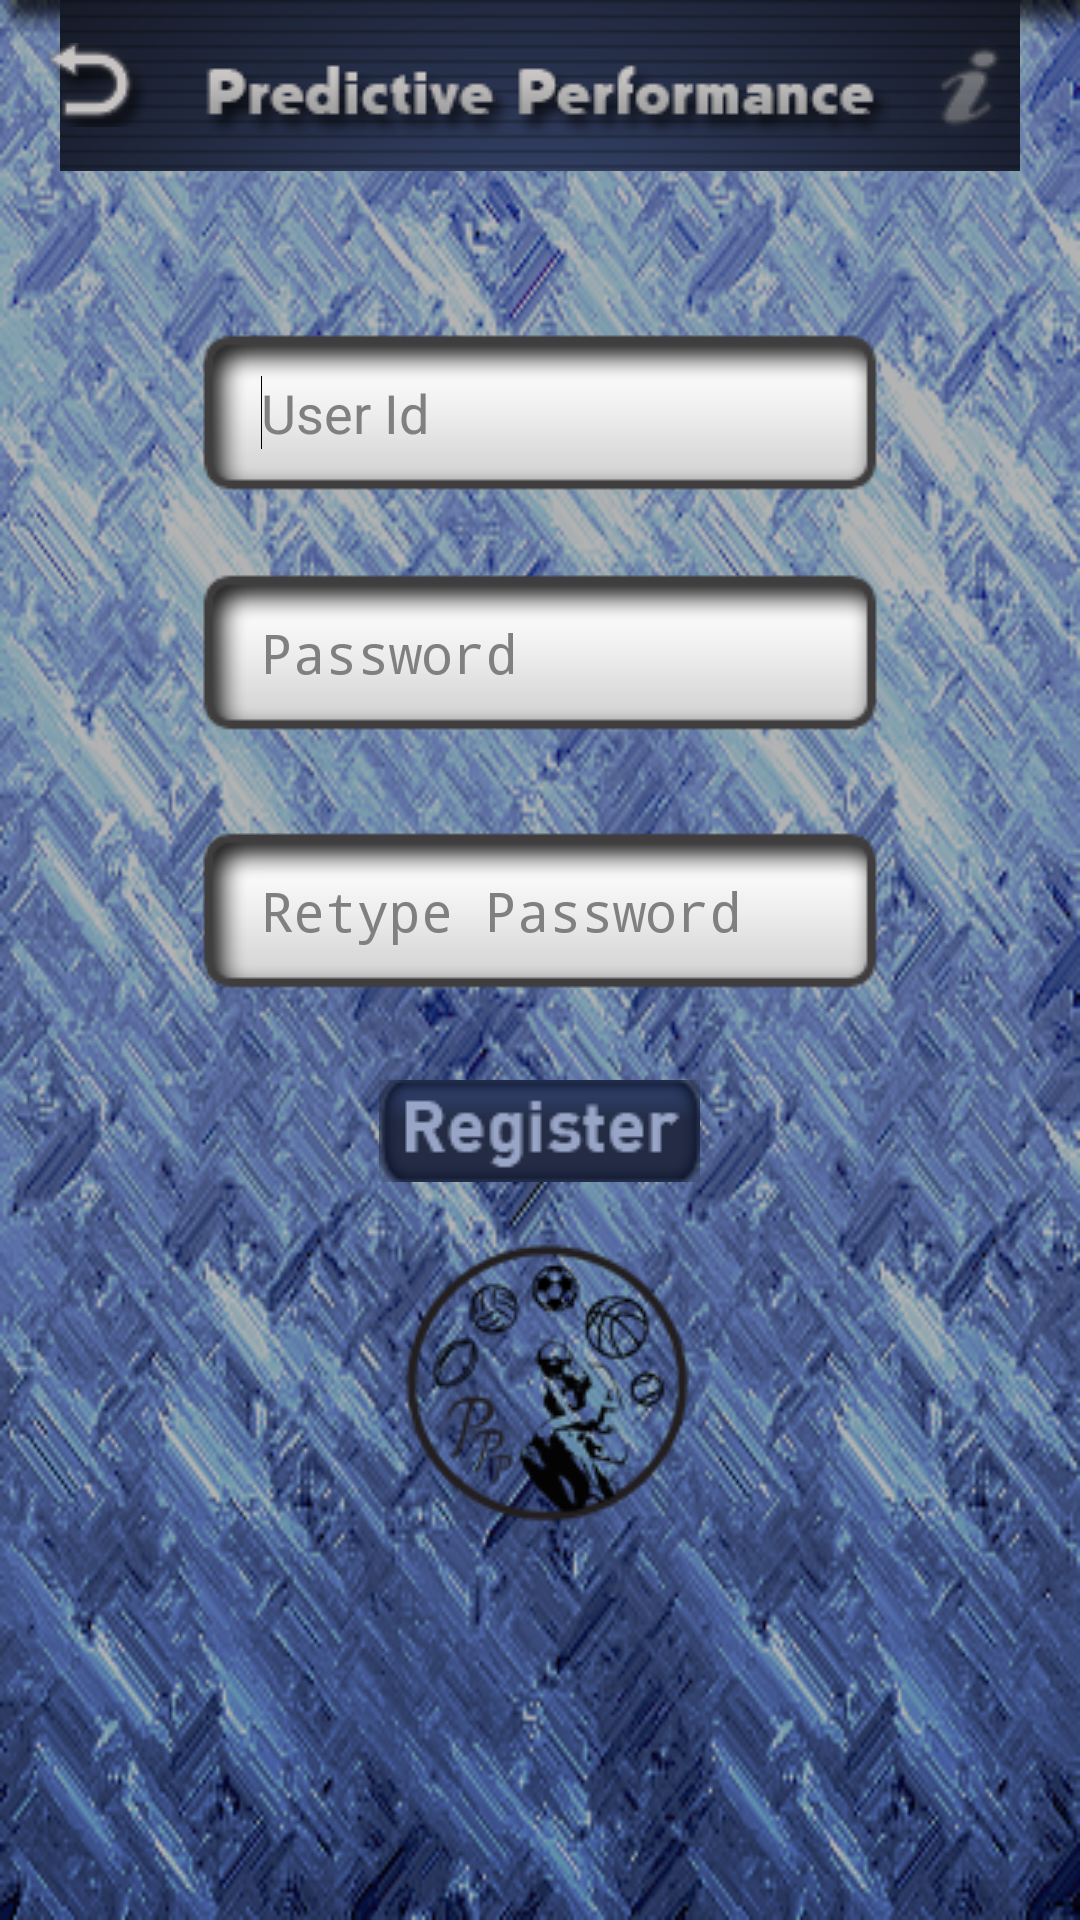

Named icons in this screenshot (1080x1920) and their centers, (x=x, y=y):
circle: (x=542, y=1378)
